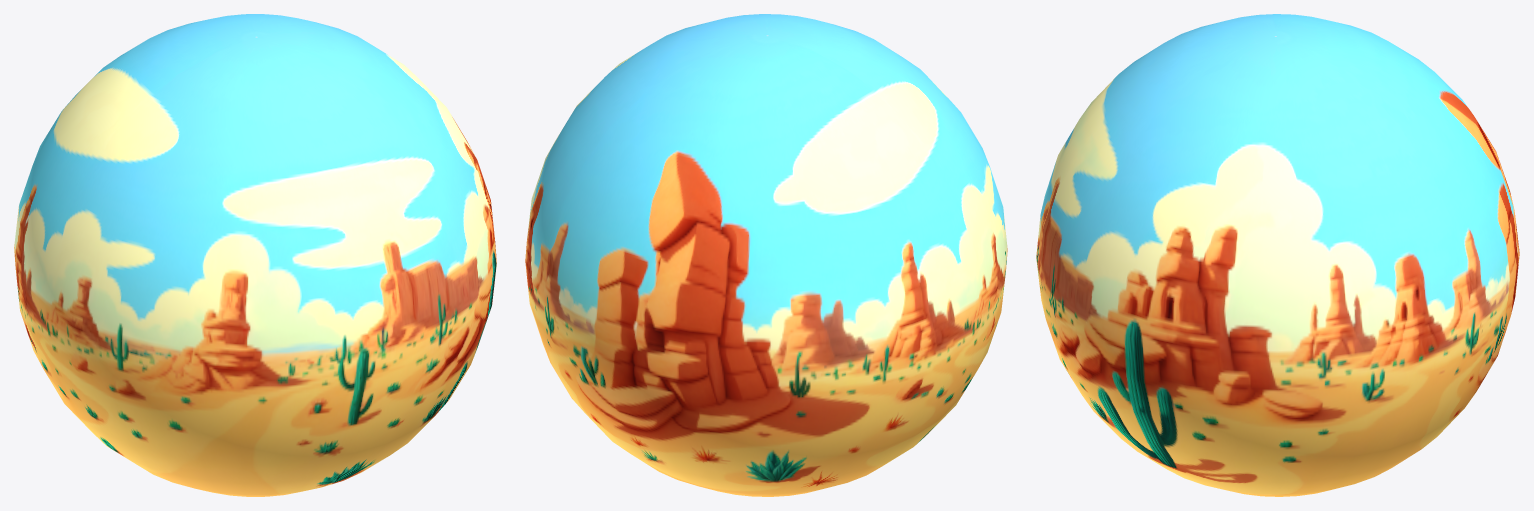
The model's file is sky3.glb.
The picture shows the model from 3 angles, left to right: view 1: azimuth 30°, elevation 25°; view 2: azimuth 150°, elevation 25°; view 3: azimuth 270°, elevation 25°; orthographic projection.
Parts seen in each view (by area): view 1: Desert skybox sphere; view 2: Desert skybox sphere; view 3: Desert skybox sphere.
Boxes of the visible parts, bbox=[...] form: Desert skybox sphere: bbox=[14, 14, 496, 496]; Desert skybox sphere: bbox=[525, 14, 1007, 496]; Desert skybox sphere: bbox=[1036, 14, 1519, 496].
Size of the model in its own units: 573 by 573 by 573.
Materials: 1 (1 with a texture image).
